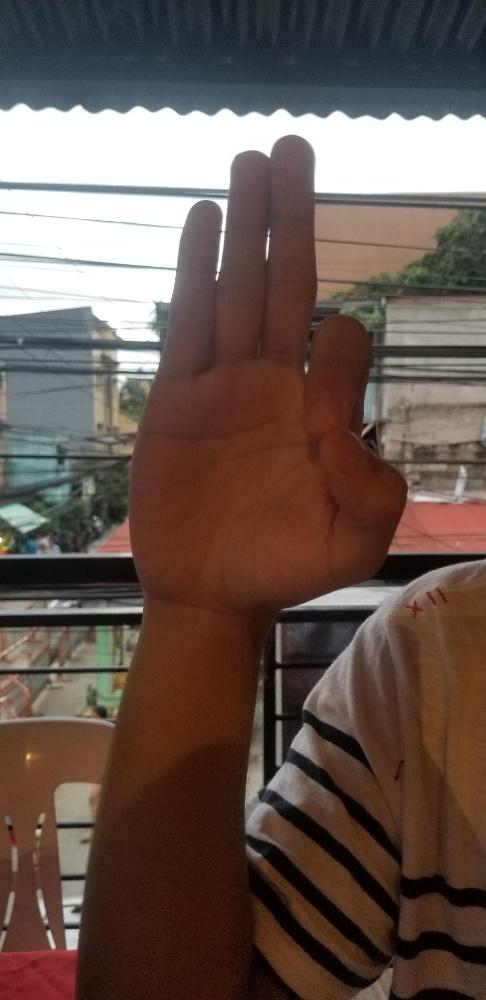f: (128, 131, 409, 605)
